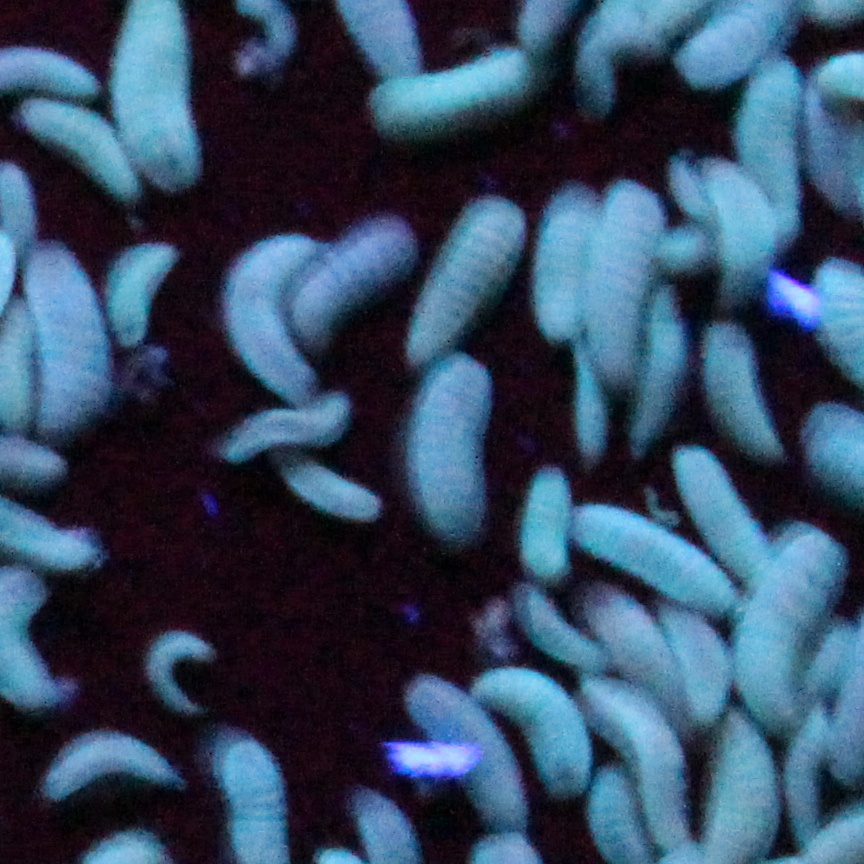larve: (403, 343, 514, 550), (399, 189, 530, 362), (209, 218, 326, 404), (16, 235, 120, 439), (566, 502, 743, 616), (286, 206, 412, 349), (394, 677, 518, 818), (363, 38, 535, 138), (477, 660, 601, 798), (586, 681, 691, 837), (10, 91, 146, 207), (589, 172, 665, 377), (698, 313, 784, 467), (26, 721, 183, 804), (667, 450, 767, 580), (530, 171, 600, 347), (218, 377, 362, 461), (579, 581, 675, 701), (103, 232, 187, 359), (270, 447, 390, 531), (508, 451, 576, 589), (143, 627, 223, 736), (506, 585, 603, 672)
